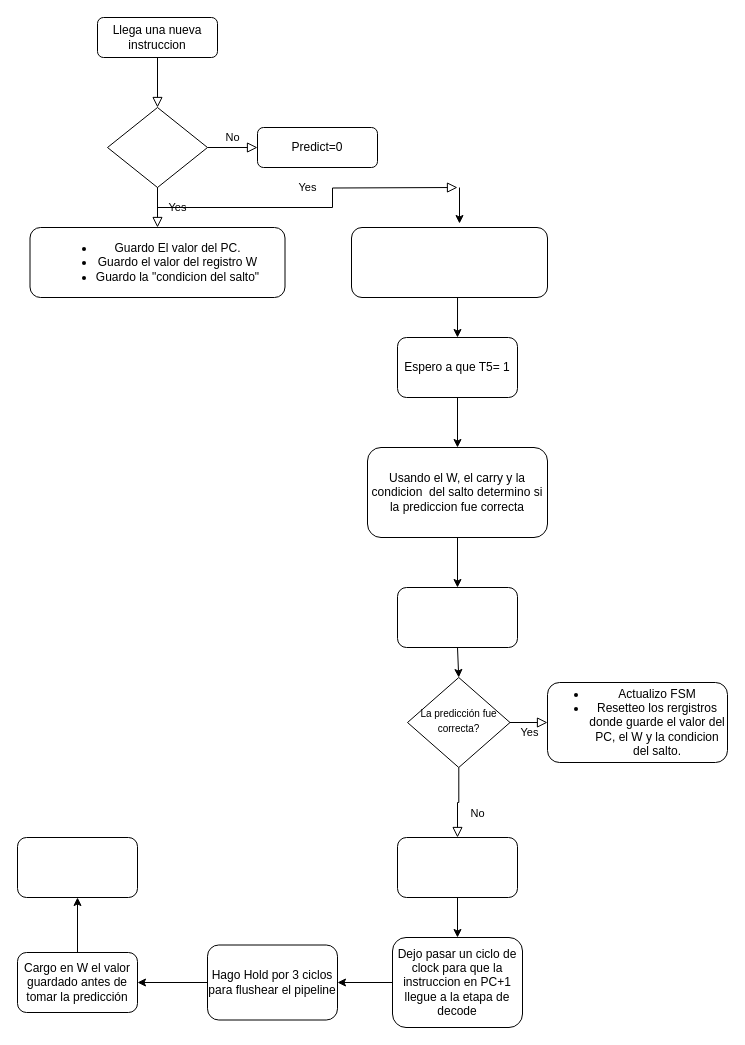
Image size: 745x1045. Some labels were removed from this diagram. The shapes that lost their labels are listed below. From the top down, each one's centre as x and y in pixels, then its label:
[157,147]: Es un salto?
[449,262]: La FSM predice si se toma el salto o no.
[457,617]: Actualizo la FSM
[77,867]: Dejo de hacer hold
[457,867]: Cargo PC+1 en el PC register
